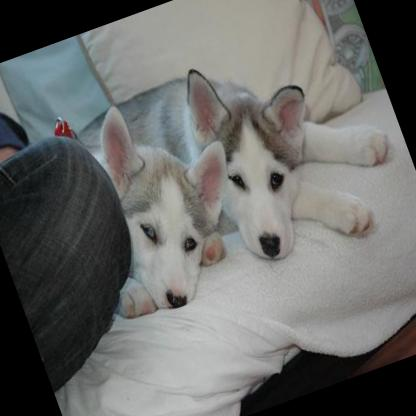Siberian_husky: (58, 10, 416, 316), (48, 75, 270, 332)
